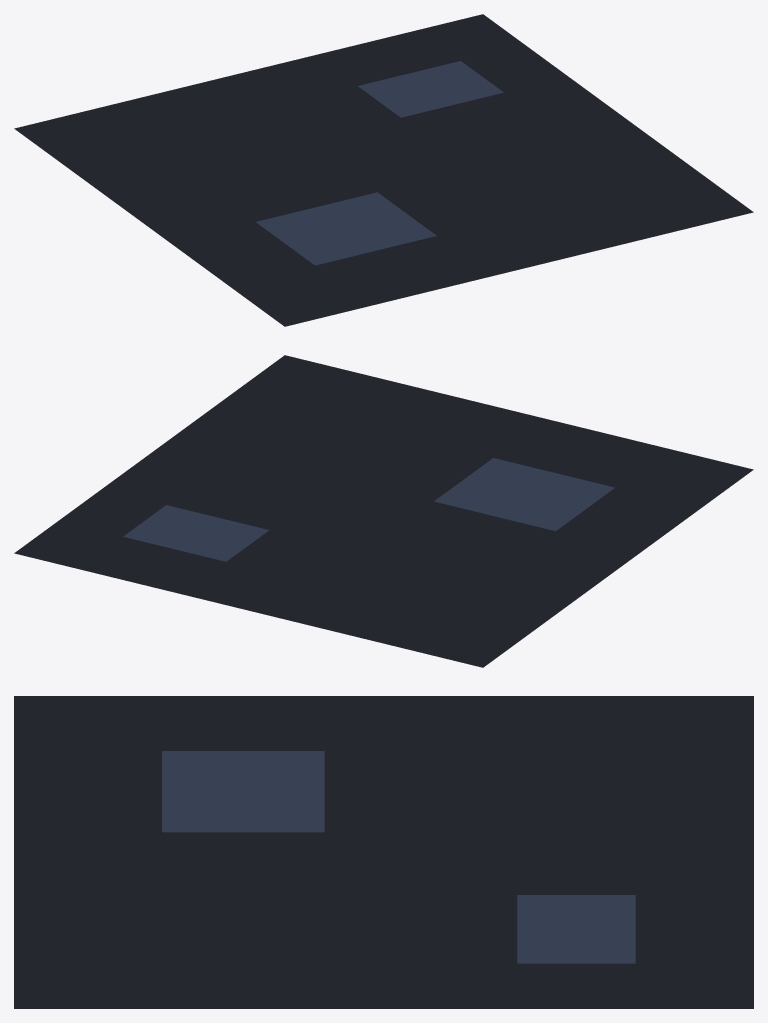
The model's file is cyb-asfalto.gltf.
3 views of the same model, one above another, from view 1: azimuth 30°, elevation 25°; view 2: azimuth 150°, elevation 25°; view 3: azimuth 270°, elevation 25° (orthographic). The views are drawn at different scales.
Visible parts, largest first — view 1: cyb-asfalto; view 2: cyb-asfalto; view 3: cyb-asfalto.
Part boxes in pixels (x1,y1,x2,y2): cyb-asfalto: [14, 14, 753, 326]; cyb-asfalto: [14, 355, 753, 667]; cyb-asfalto: [14, 696, 753, 1008].
Bounding box in the file's own units: 1 × 0.00201 × 1.
